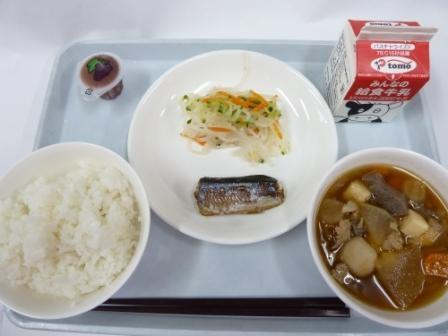Cup desserts: (63, 48, 131, 111)
Fish: (186, 164, 290, 226)
Milk: (318, 9, 430, 123)
Rice: (0, 142, 151, 316)
Salad: (173, 76, 295, 159)
Soups: (304, 143, 445, 331)
